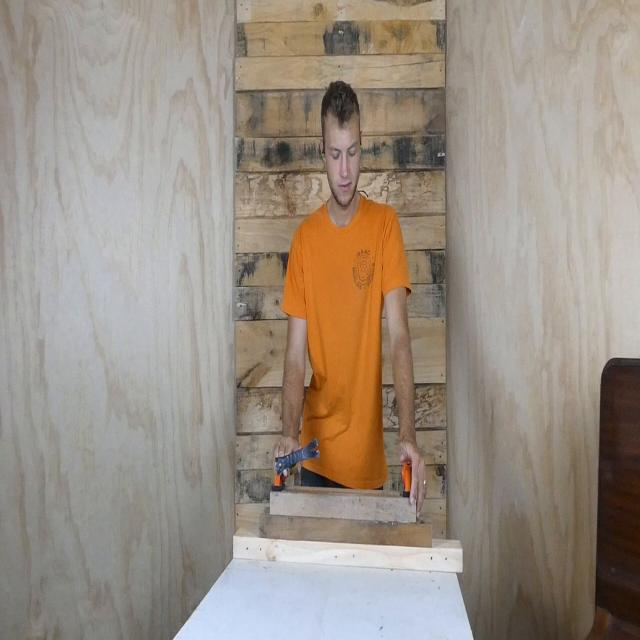hammer: (275, 438, 319, 475)
